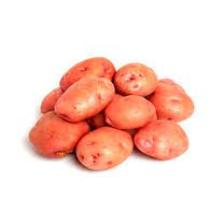Defected potato: (28, 110, 92, 160), (74, 124, 135, 173), (54, 75, 115, 123), (131, 119, 191, 161), (59, 57, 118, 96), (104, 95, 159, 130), (143, 87, 195, 123), (117, 61, 159, 98)
